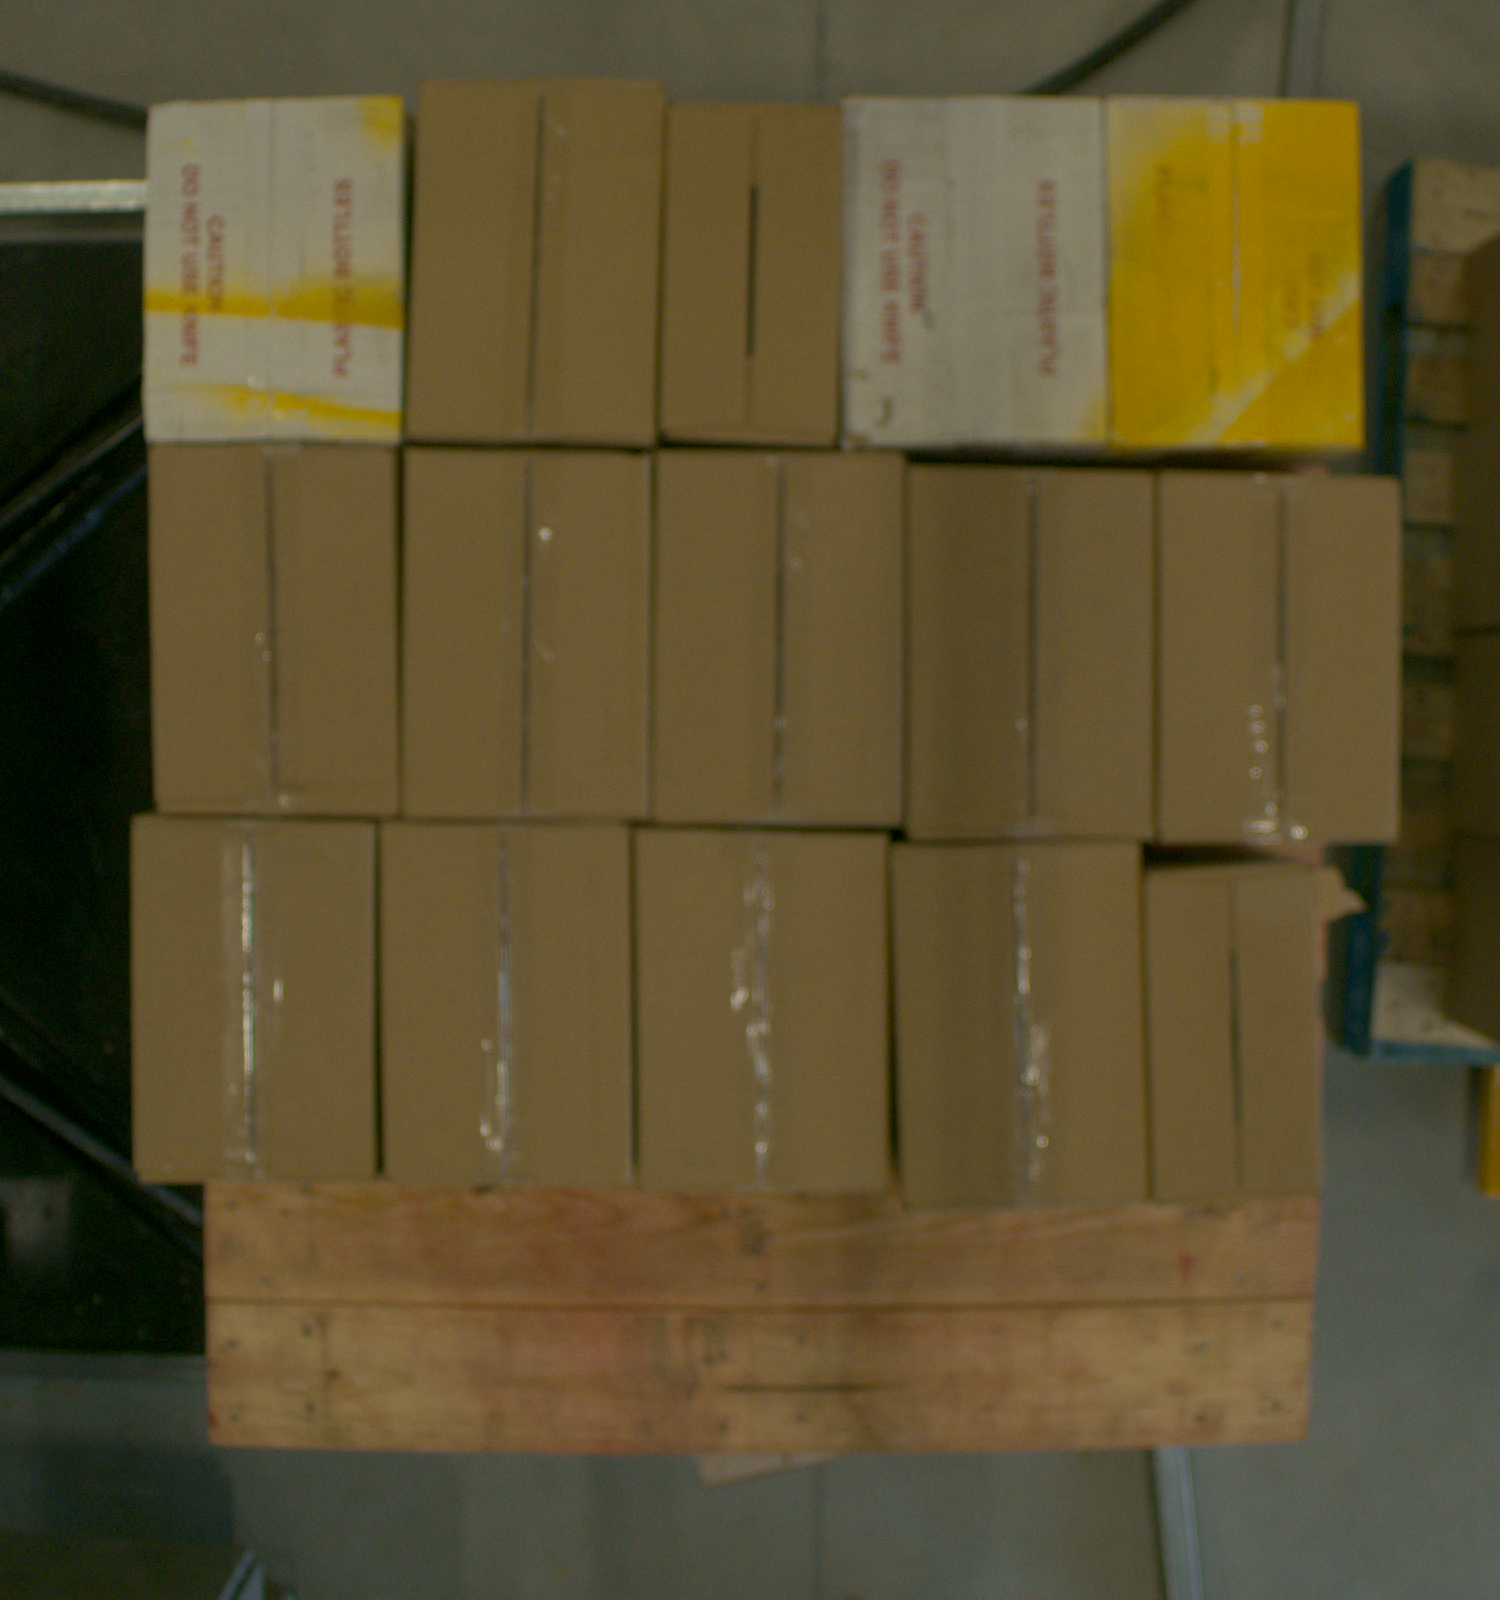box top: (651, 457, 905, 829), (407, 78, 663, 443), (908, 469, 1156, 839), (144, 97, 405, 445), (403, 450, 651, 815), (639, 836, 891, 1194), (849, 97, 1107, 447), (155, 453, 405, 812), (899, 846, 1149, 1202), (381, 829, 629, 1187), (1111, 99, 1363, 450), (1162, 475, 1398, 843), (133, 823, 374, 1183), (661, 103, 844, 443), (1150, 870, 1328, 1200)
